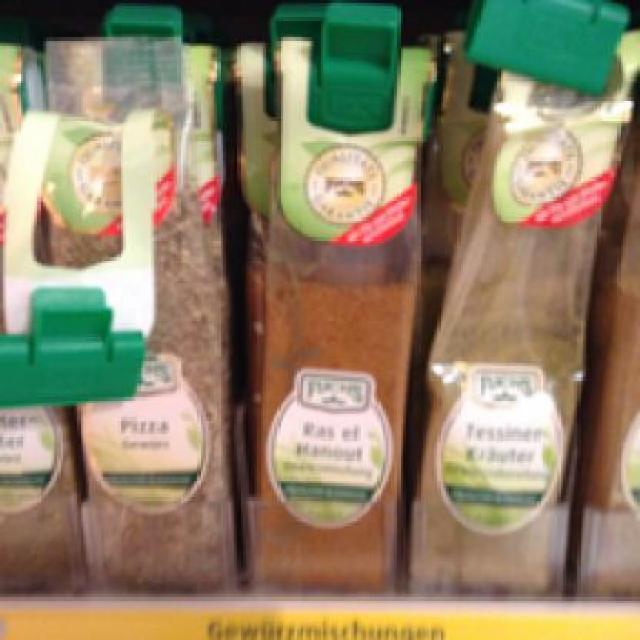Spices: (428, 31, 628, 586), (40, 34, 237, 586), (256, 31, 429, 584)
